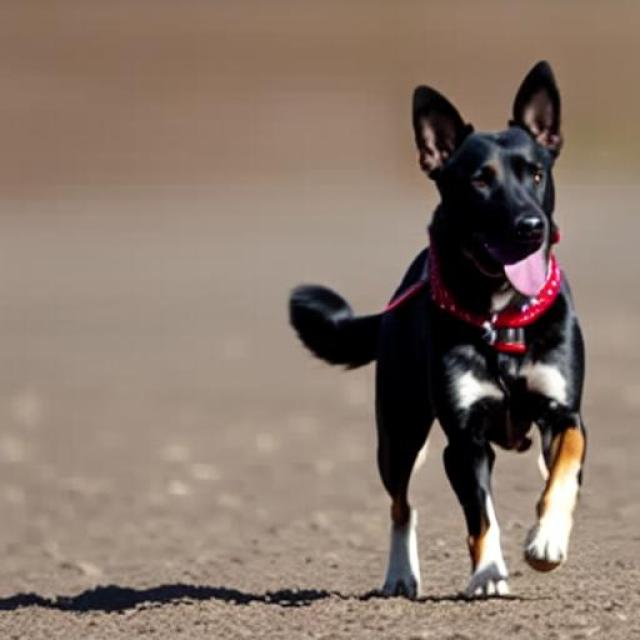Dog: (286, 60, 588, 600)
